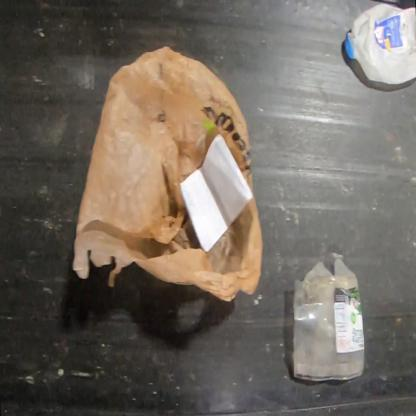rigid_plastic: (290, 258, 366, 382), (343, 3, 415, 85)
soft_plastic: (72, 46, 264, 301)
